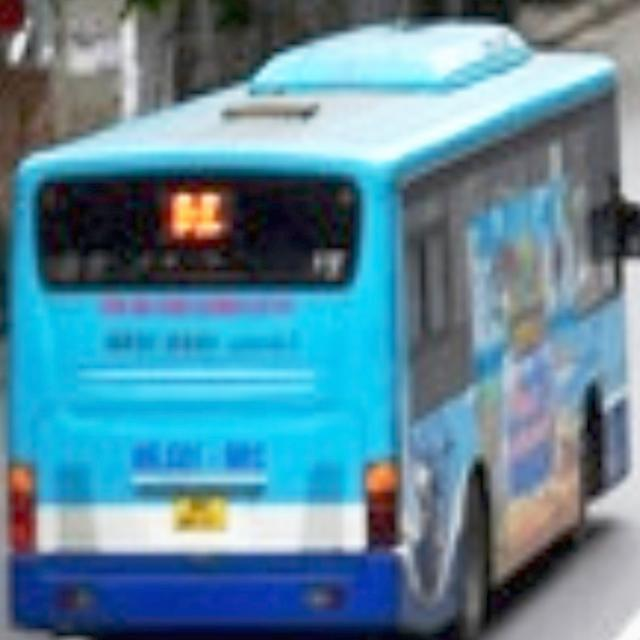Car: (4, 16, 640, 640)
